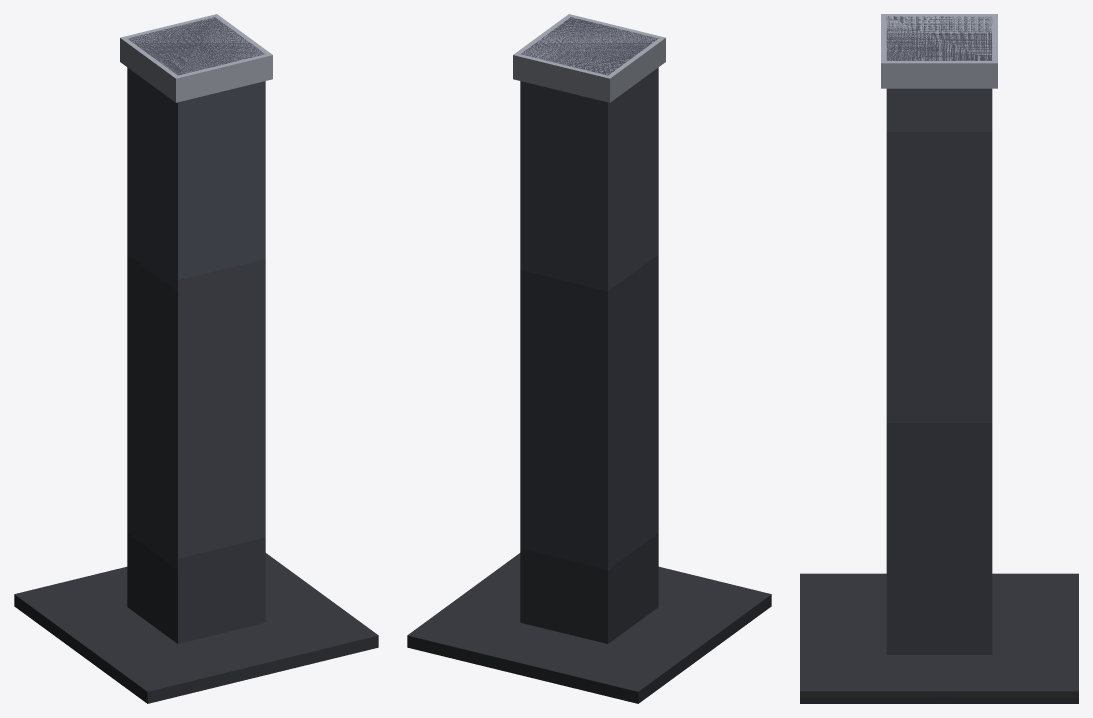
Rendered from model_45_iron.glb.
3 views of the same model, side by side, from view 1: azimuth 30°, elevation 25°; view 2: azimuth 150°, elevation 25°; view 3: azimuth 270°, elevation 25° (orthographic). The views are drawn at different scales.
Bounding box in the file's own units: 1 × 2.4 × 1.
1 material, 1 textured.
